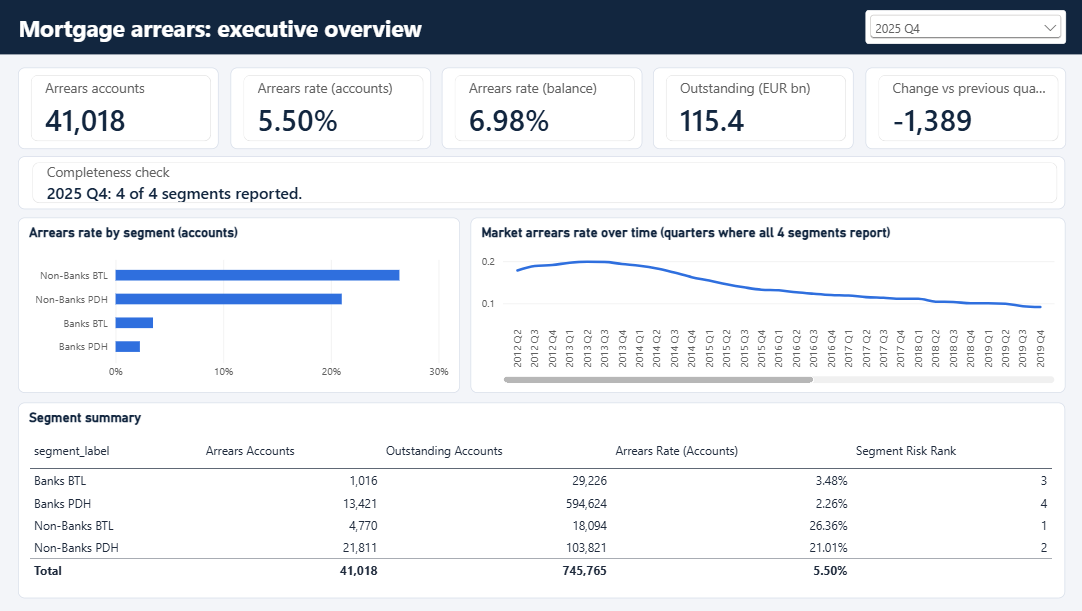

The dashboard page shown, as its layout file describes it:
{"tool":"powerbi","page":{"name":"Executive overview","canvas":[1280,720],"ordinal":0},"visuals":[{"type":"textbox","box":[0,0,1280,64],"z":0},{"type":"cardVisual","fields":{"Data":["_Measures.Arrears Accounts"]},"box":[24,80,236,96],"z":1},{"type":"cardVisual","fields":{"Data":["_Measures.Arrears Rate (Accounts)"]},"box":[273,80,236,96],"z":2},{"type":"cardVisual","fields":{"Data":["_Measures.Arrears Rate (Balance)"]},"box":[522,80,236,96],"z":3},{"type":"cardVisual","fields":{"Data":["_Measures.Outstanding Balance (EUR bn)"]},"box":[771,80,236,96],"z":4},{"type":"cardVisual","fields":{"Data":["_Measures.QoQ Change Arrears Accounts"]},"box":[1020,80,236,96],"z":5},{"type":"cardVisual","fields":{"Data":["_Measures.Completeness Note"]},"box":[24,184,1232,62],"z":6},{"type":"clusteredBarChart","title":"Arrears rate by segment (accounts)","fields":{"Category":["dim_segment.segment_label"],"Y":["_Measures.Arrears Rate (Accounts)"]},"box":[24,256,520,206],"z":7},{"type":"lineChart","title":"Market arrears rate over time (quarters where all 4 segments report)","fields":{"Category":["dim_date.quarter_label"],"Y":["_Measures.Arrears Rate Market Trend"]},"box":[556,256,700,206],"z":8},{"type":"tableEx","title":"Segment summary","fields":{"Values":["dim_segment.segment_label","_Measures.Arrears Accounts","_Measures.Outstanding Accounts","_Measures.Arrears Rate (Accounts)","_Measures.Segment Risk Rank"]},"box":[24,474,1232,230],"z":9},{"type":"slicer","fields":{"Values":["dim_date.quarter_label"]},"box":[1020,12,236,40],"z":50}]}

Visuals, with their boxes in screenshot pixels (x1, y1, x2, y2), scaled from the page's 1280x720 canvas onto the 1082x611 screenshot:
textbox: left=0, top=0, right=1081, bottom=54
cardVisual - _Measures.Arrears Accounts: left=20, top=68, right=220, bottom=149
cardVisual - _Measures.Arrears Rate (Accounts): left=231, top=68, right=430, bottom=149
cardVisual - _Measures.Arrears Rate (Balance): left=441, top=68, right=641, bottom=149
cardVisual - _Measures.Outstanding Balance (EUR bn): left=652, top=68, right=851, bottom=149
cardVisual - _Measures.QoQ Change Arrears Accounts: left=862, top=68, right=1062, bottom=149
cardVisual - _Measures.Completeness Note: left=20, top=156, right=1062, bottom=209
"Arrears rate by segment (accounts)" clusteredBarChart: left=20, top=217, right=460, bottom=392
"Market arrears rate over time (quarters where all 4 segments report)" lineChart: left=470, top=217, right=1062, bottom=392
"Segment summary" tableEx: left=20, top=402, right=1062, bottom=597
slicer - dim_date.quarter_label: left=862, top=10, right=1062, bottom=44
